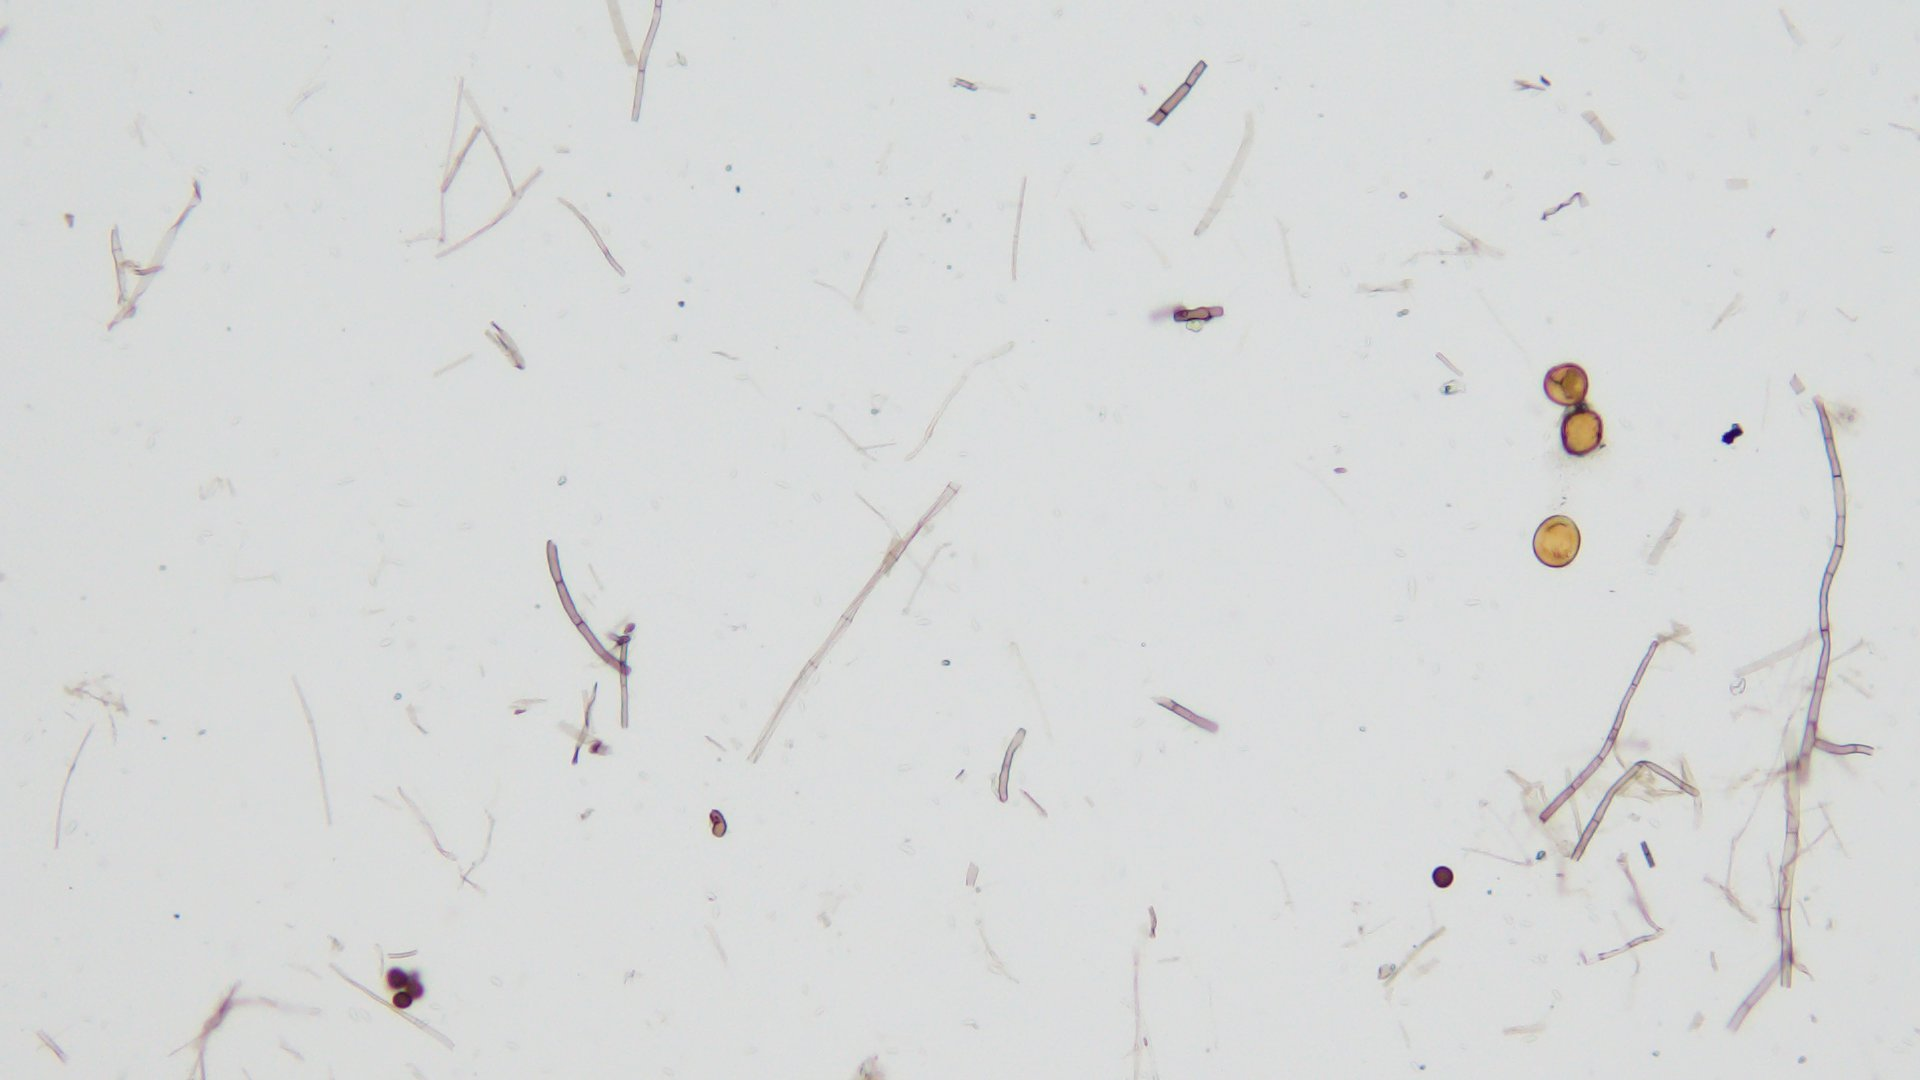shs_spore: (1432, 866, 1452, 887), (389, 971, 407, 992), (392, 993, 411, 1007)
xb_spore: (1534, 516, 1581, 568), (1556, 406, 1605, 455), (1543, 363, 1589, 409)
